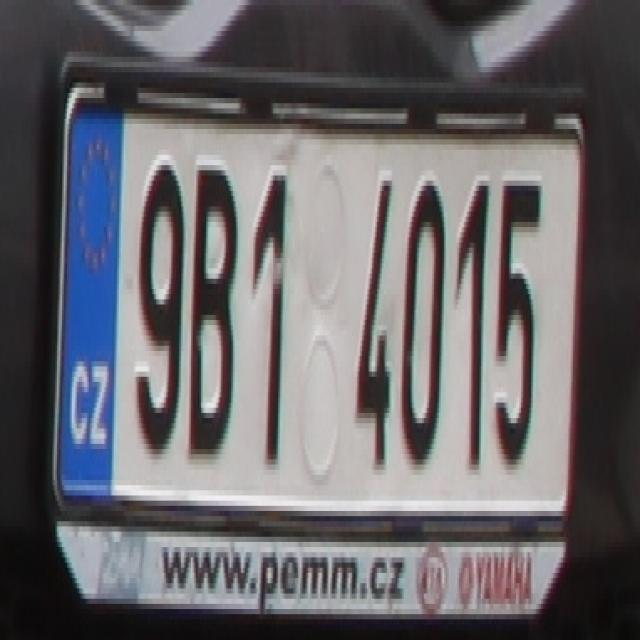0: (399, 170, 449, 464)
1: (254, 160, 292, 454), (452, 175, 486, 475)
4: (354, 165, 396, 470)
5: (494, 160, 541, 475)
9: (132, 150, 183, 449)
B: (189, 150, 238, 464)
